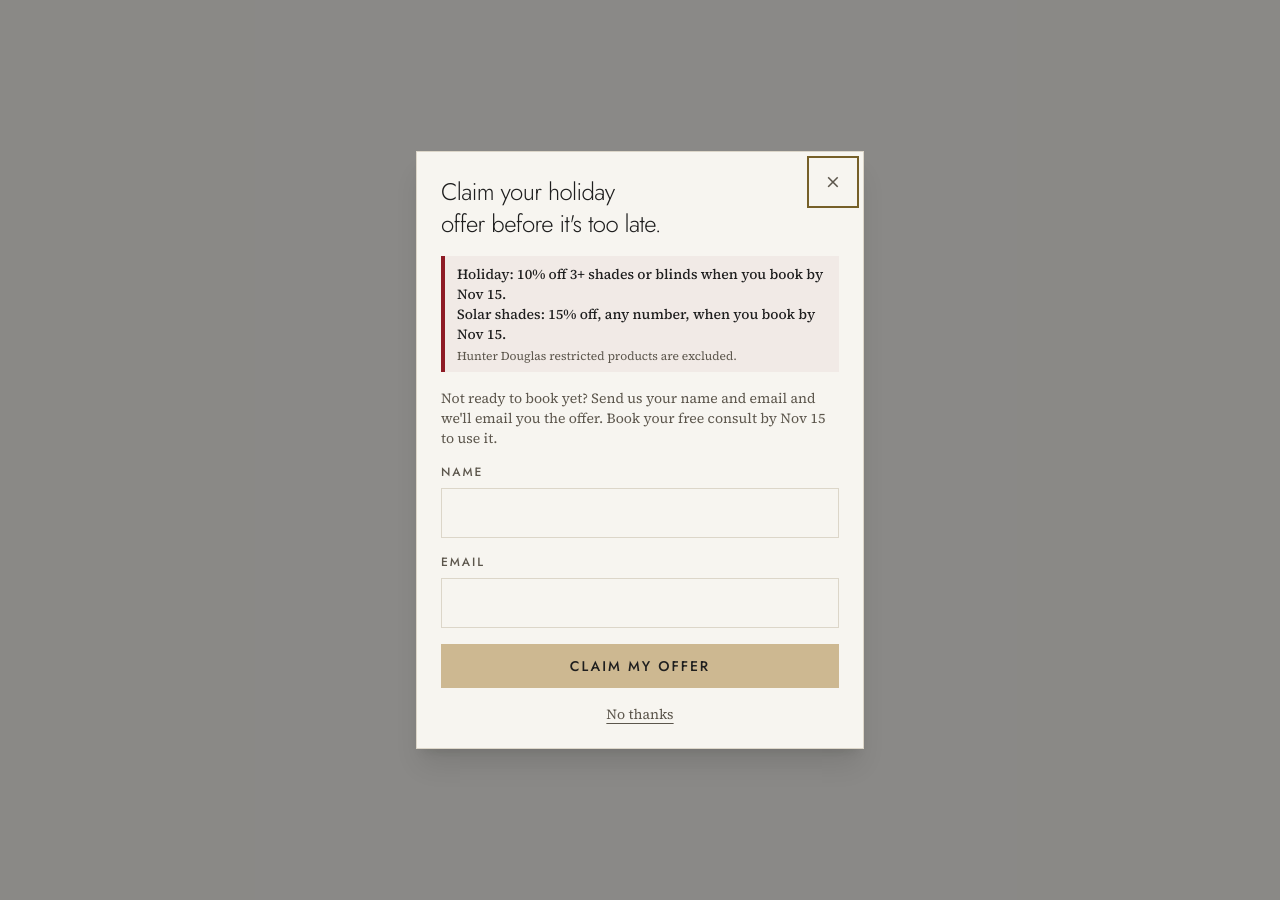
Test: the offer pop-up (owner 2026-10-21) › shows the problem and sends nothing when the email is wrong
The image size is (1280, 900).
In the field labelled "Name": (640, 513) x1=441 y1=488 x2=839 y2=538, type "Dana Reyes"
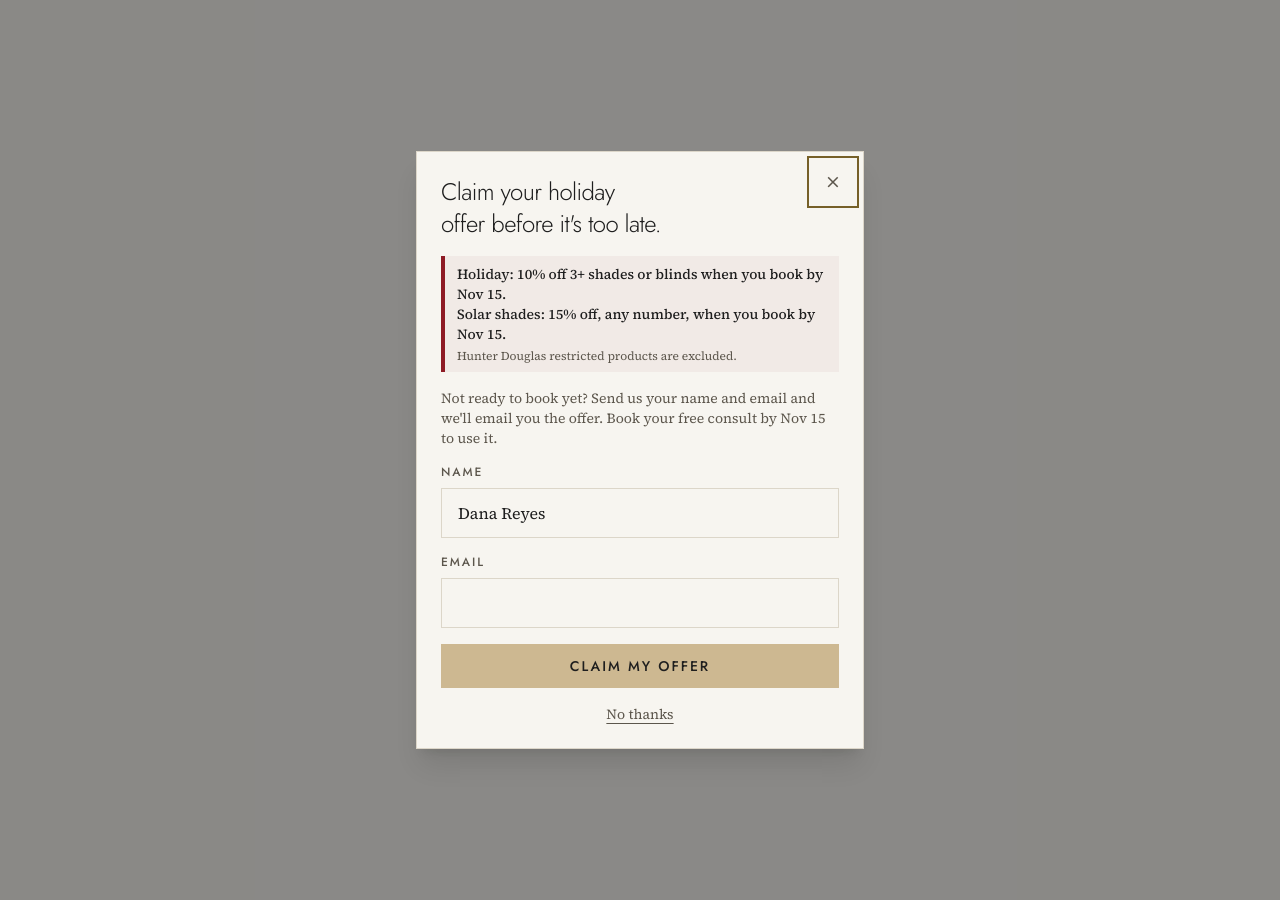
In the field labelled "Email": (640, 603) x1=441 y1=578 x2=839 y2=628, type "dana"
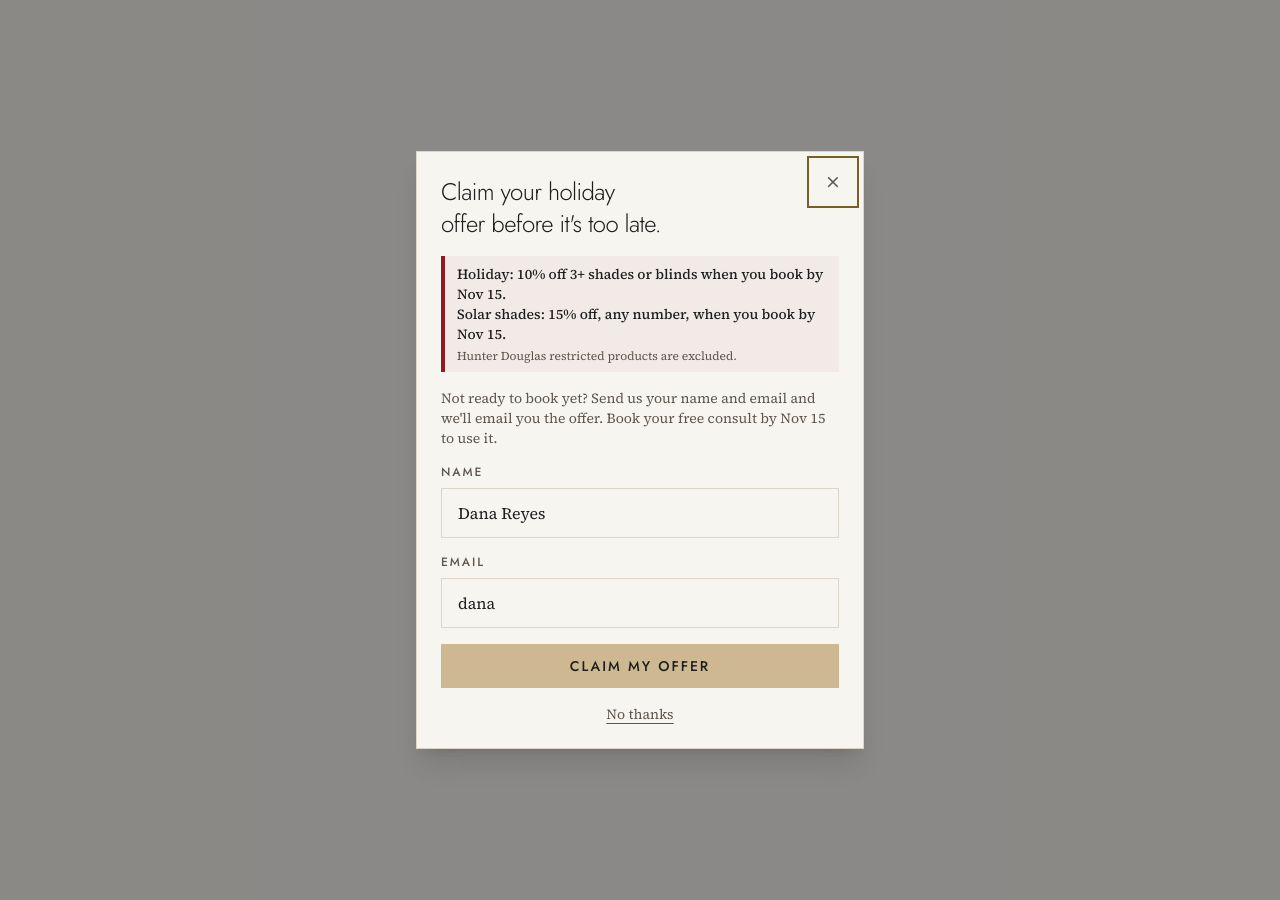
Click the button "Claim my offer": click(640, 666) x1=441 y1=644 x2=839 y2=688
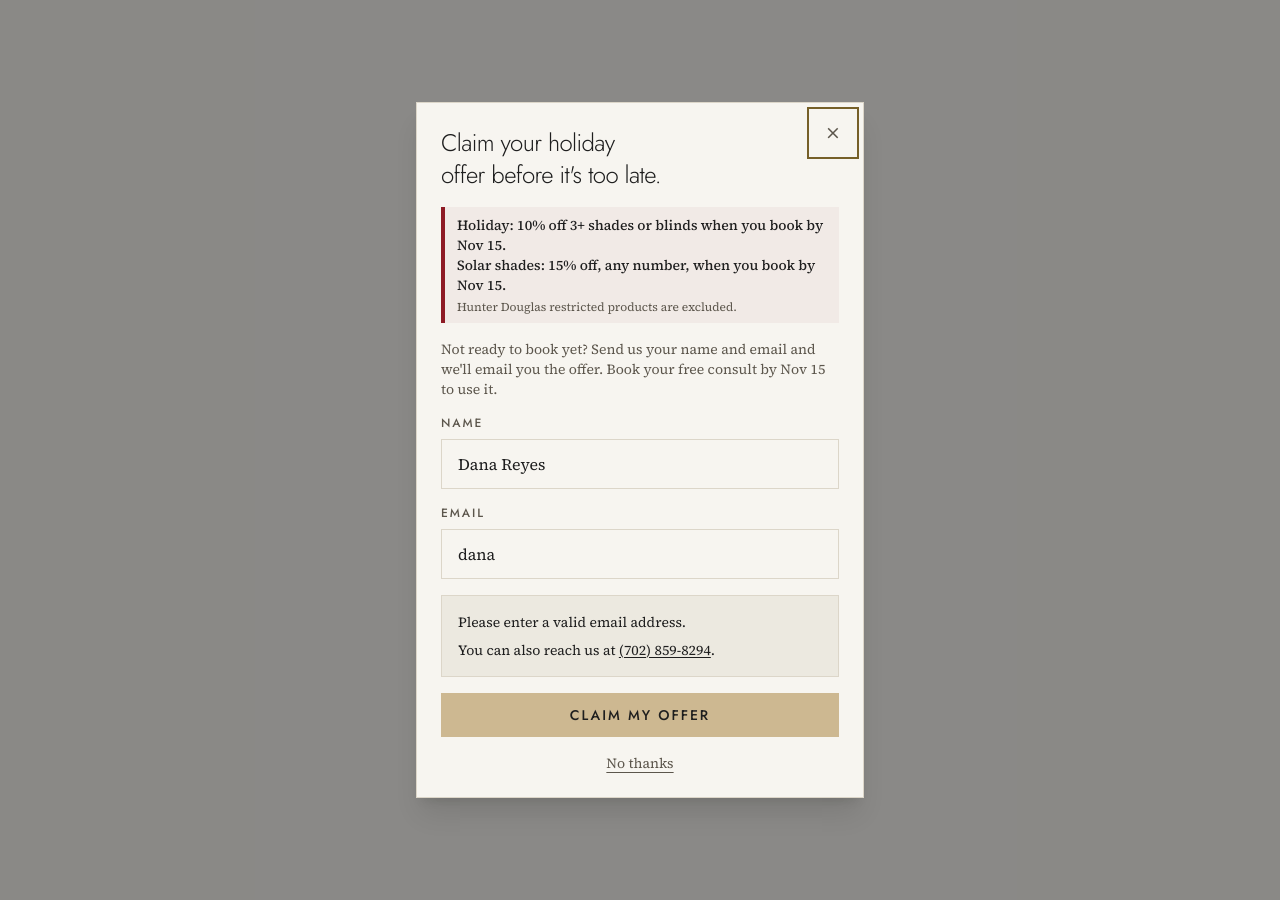
Now the message shows "Please enter a valid email address.", box x1=458 y1=612 x2=686 y2=632
